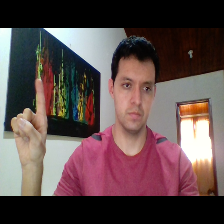2T: (9, 74, 54, 169)
